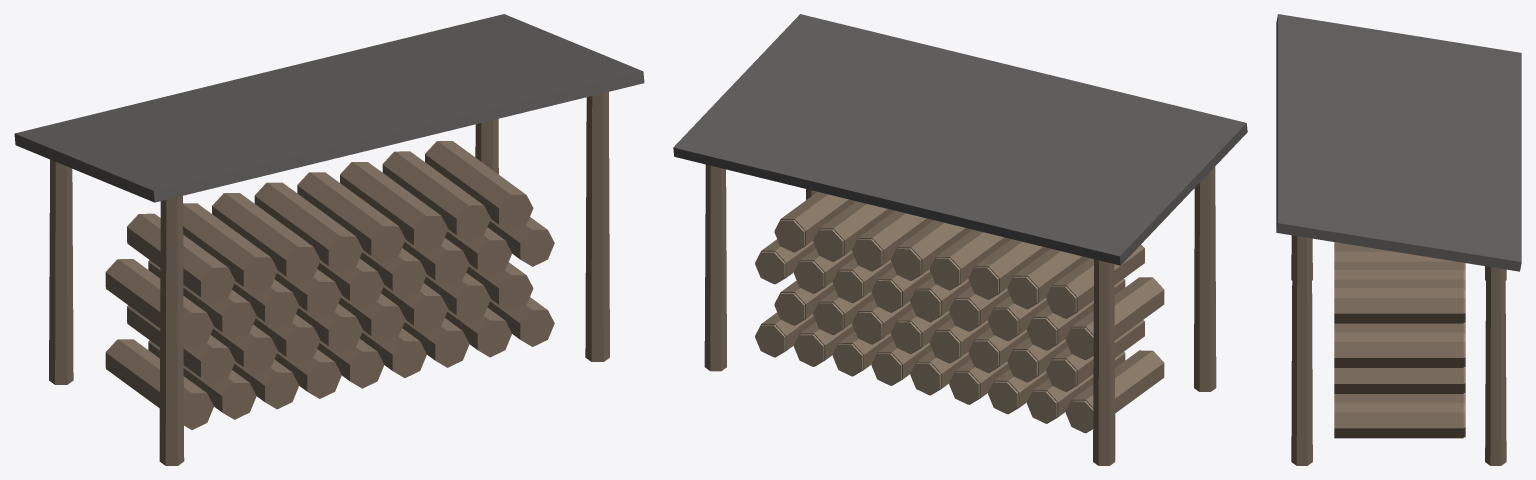
Rendered from Woodpile.fbx.
3 renders of one model, left to right at view 1: azimuth 30°, elevation 25°; view 2: azimuth 150°, elevation 25°; view 3: azimuth 270°, elevation 25°, orthographic. The views are drawn at different scales.
Visible parts, largest first — view 1: Woodpile; view 2: Woodpile; view 3: Woodpile.
Part boxes in pixels (x1=…): Woodpile: x1=14, y1=14, x2=644, y2=465; Woodpile: x1=673, y1=14, x2=1247, y2=465; Woodpile: x1=1276, y1=14, x2=1521, y2=465.
Bounding box in the file's own units: 230 × 129 × 114.
